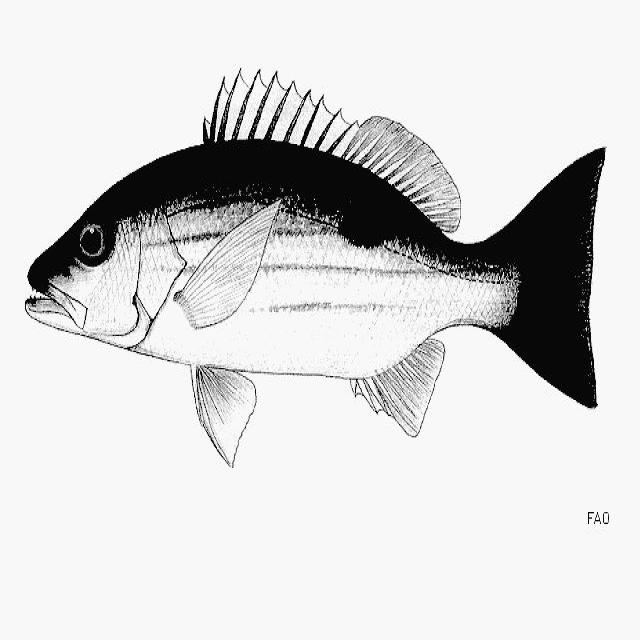ikan: (24, 65, 606, 467)
